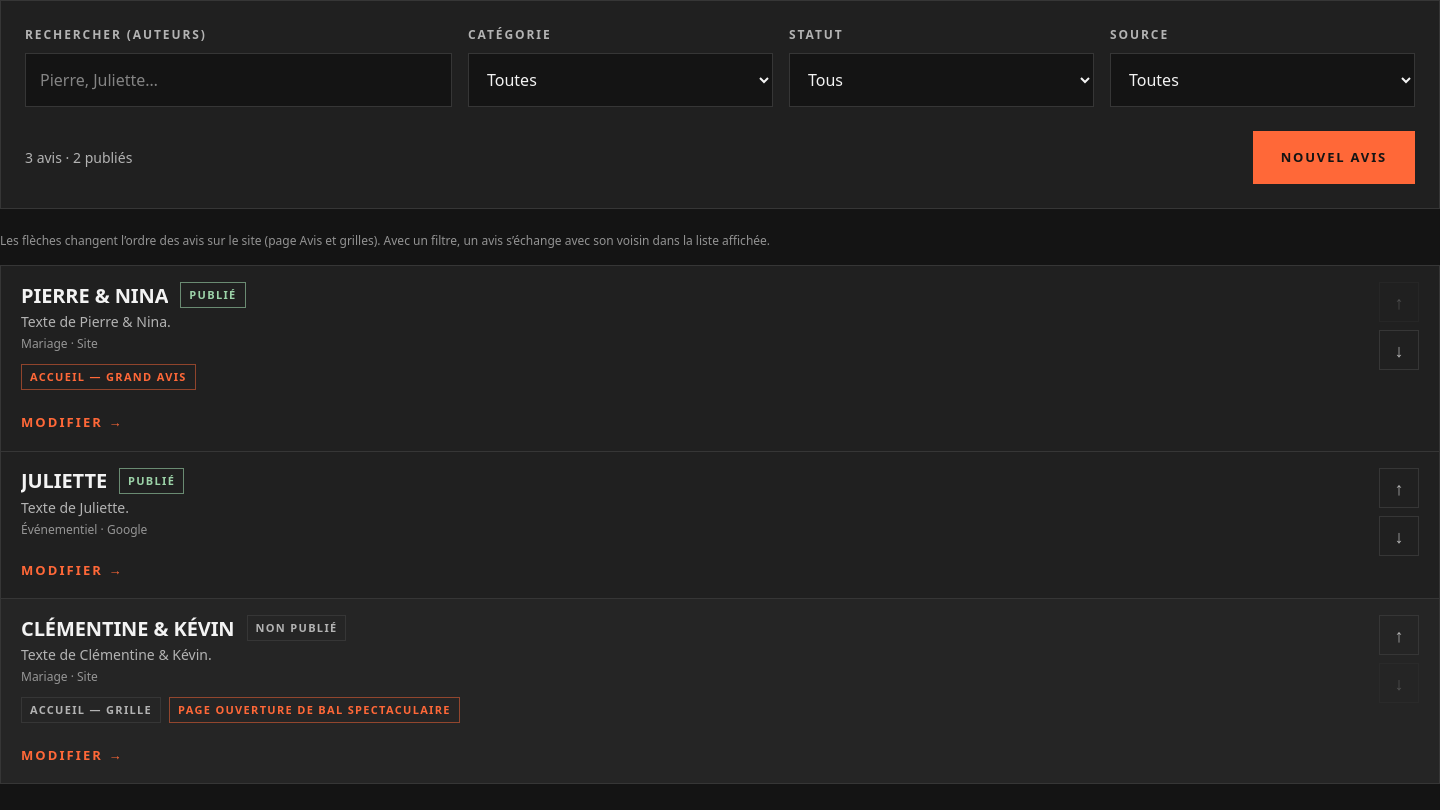
Test: GestionAvis — modale d’édition › erreur de validation : bordure rouge sur le champ, message, toast et pastille « non enregistré »
The image size is (1440, 810).
Click the button with aria-label "Modifier l’avis de Juliette" at (72, 570), box [21, 550, 124, 591]
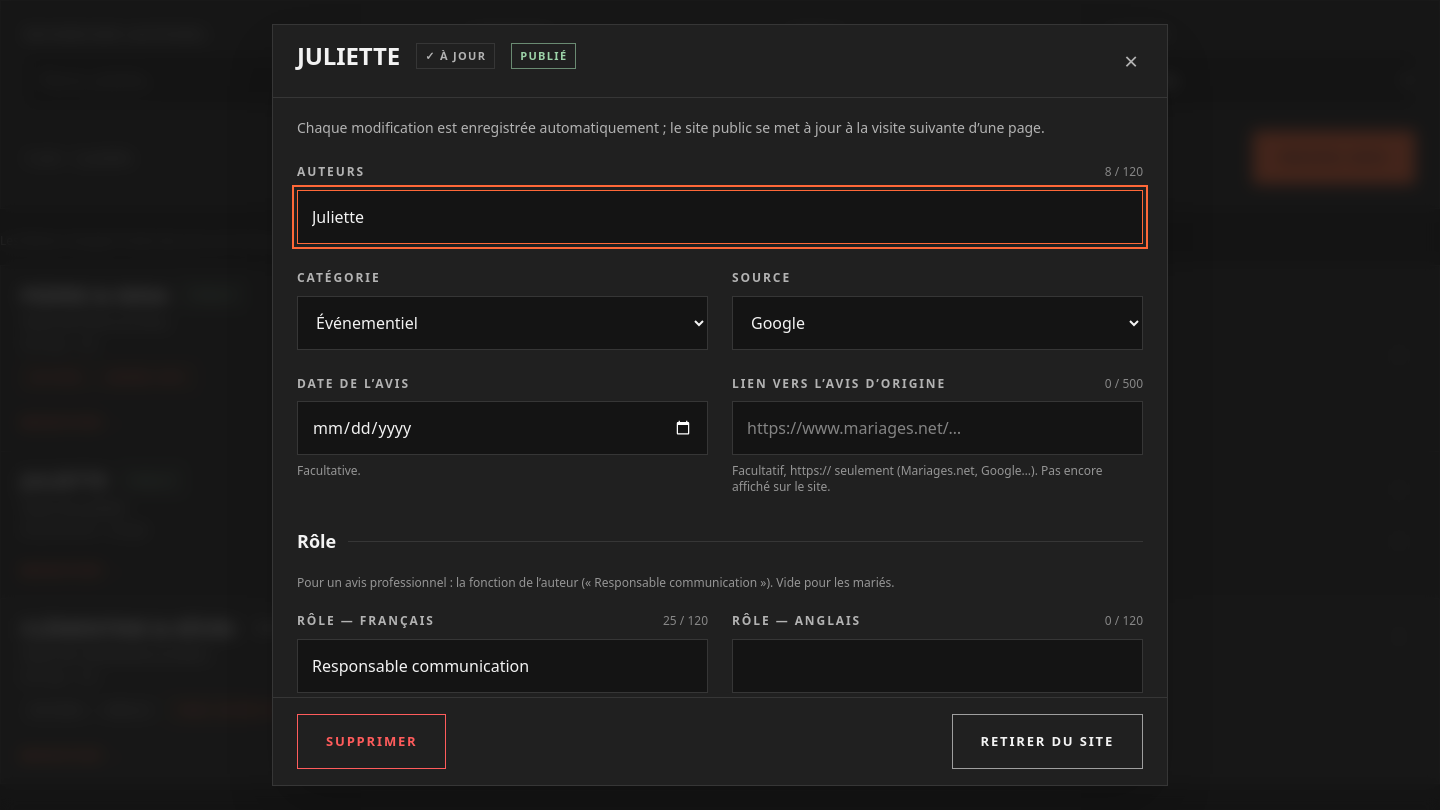
Clear the field labelled "Auteurs" at (720, 217), box [297, 190, 1143, 244]
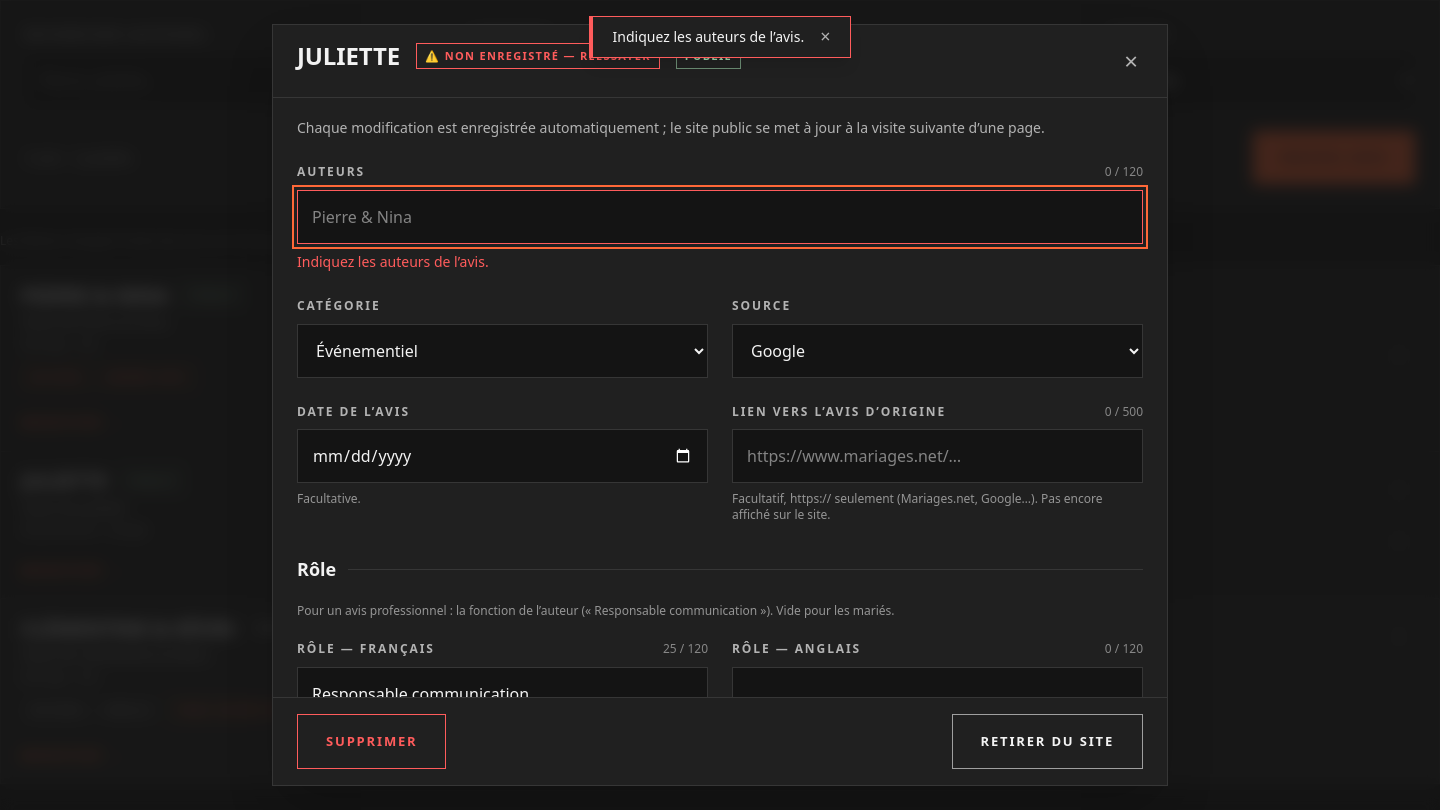
Result: the message shows "Indiquez les auteurs de l’avis." at [612, 27, 804, 46]
Result: the button "⚠ Non enregistré — réessayer" is shown at [416, 43, 660, 69]
